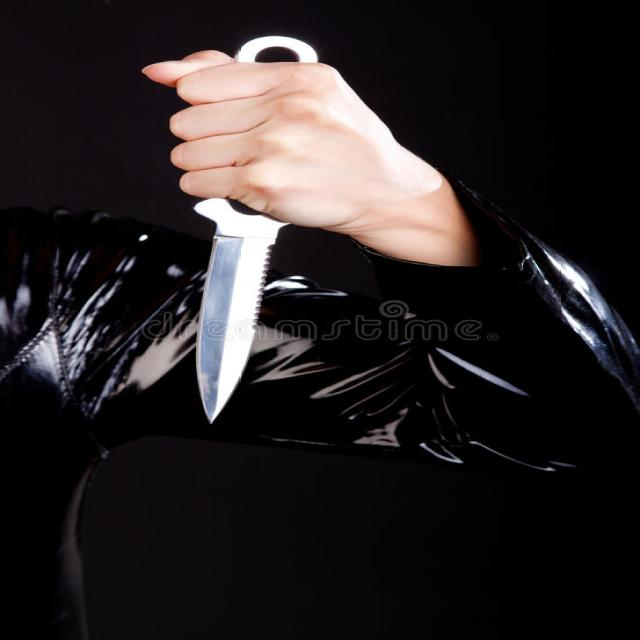knife: (195, 30, 318, 423)
